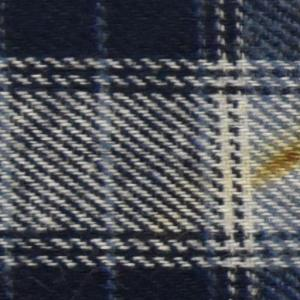Oil Stain: (238, 130, 300, 198)
